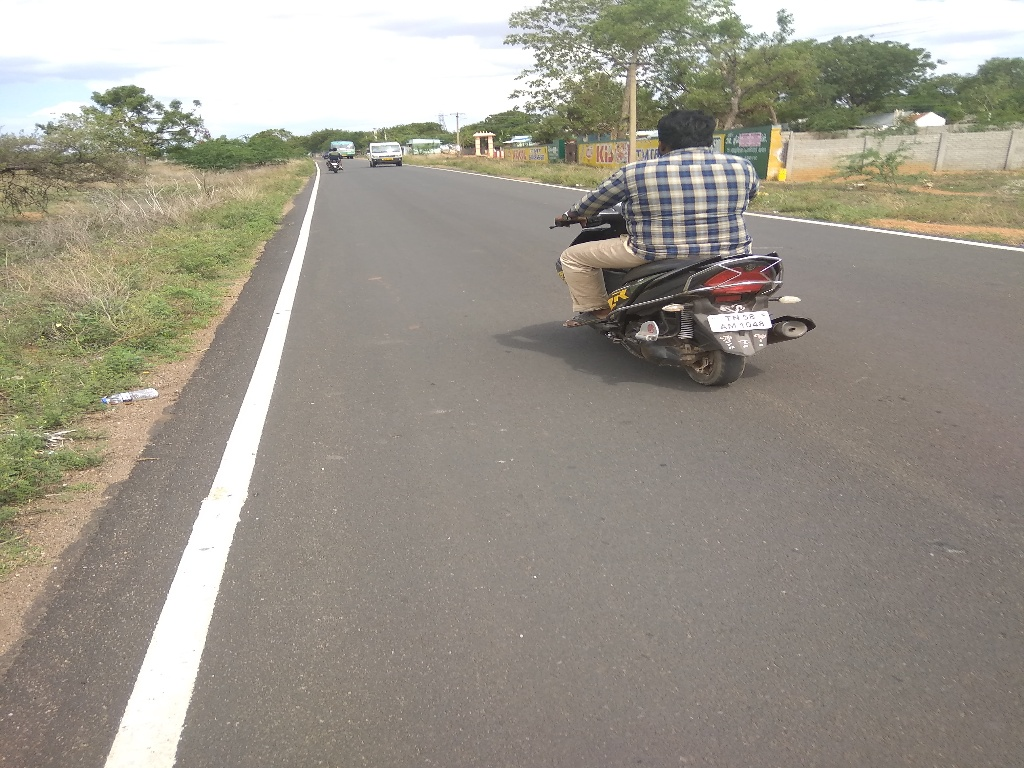biker: (549, 70, 831, 402)
nohelmet: (643, 89, 735, 169)
